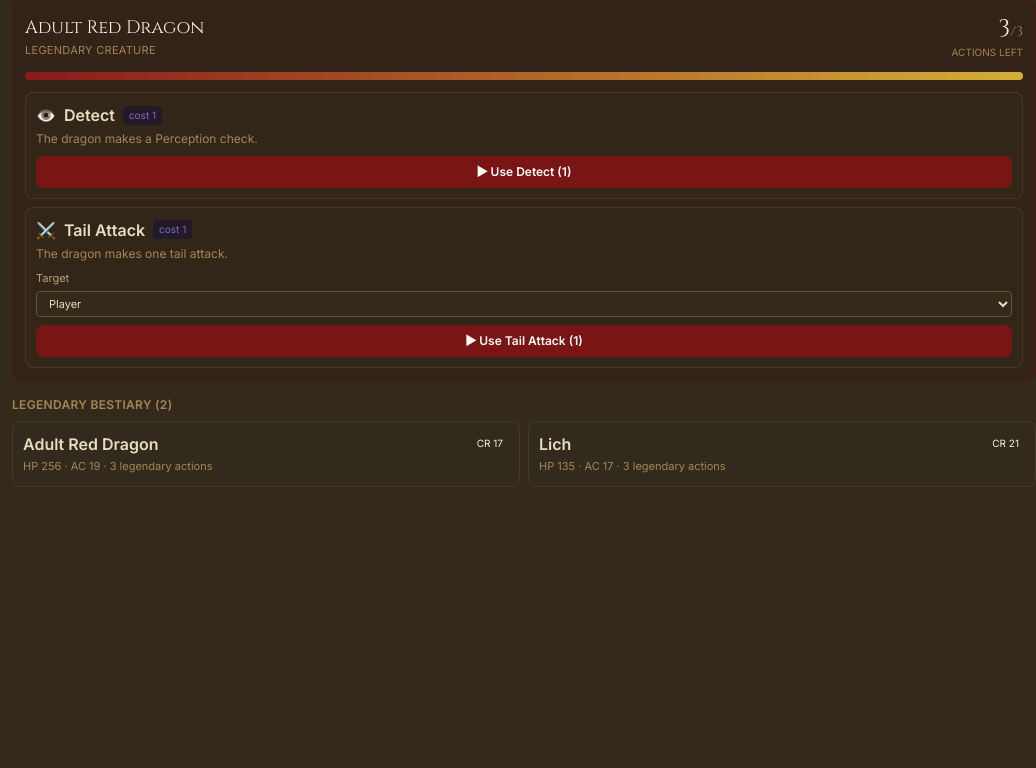
Test: LegendaryPanel › spends a legendary action and narrates to the DM bubble
The image size is (1036, 768).
Click the button "▶ Use Detect (1)": [524, 172] box x1=36 y1=156 x2=1012 y2=188
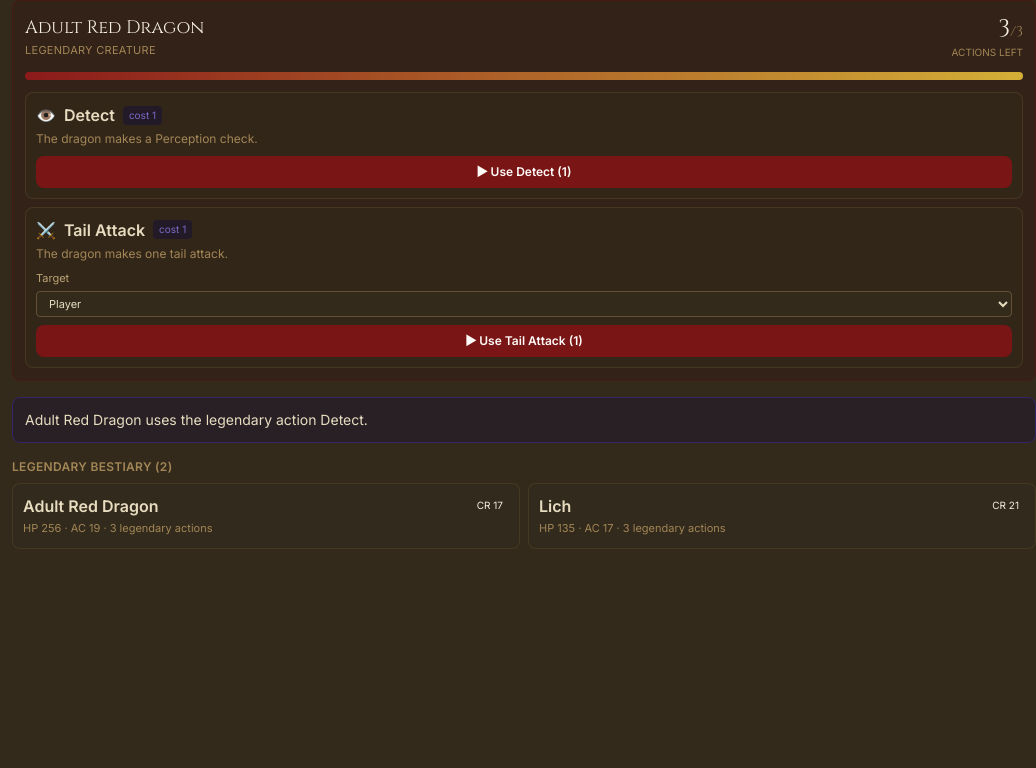
Expected: the text "legendary action Detect" is shown, x1=25 y1=410 x2=368 y2=428
